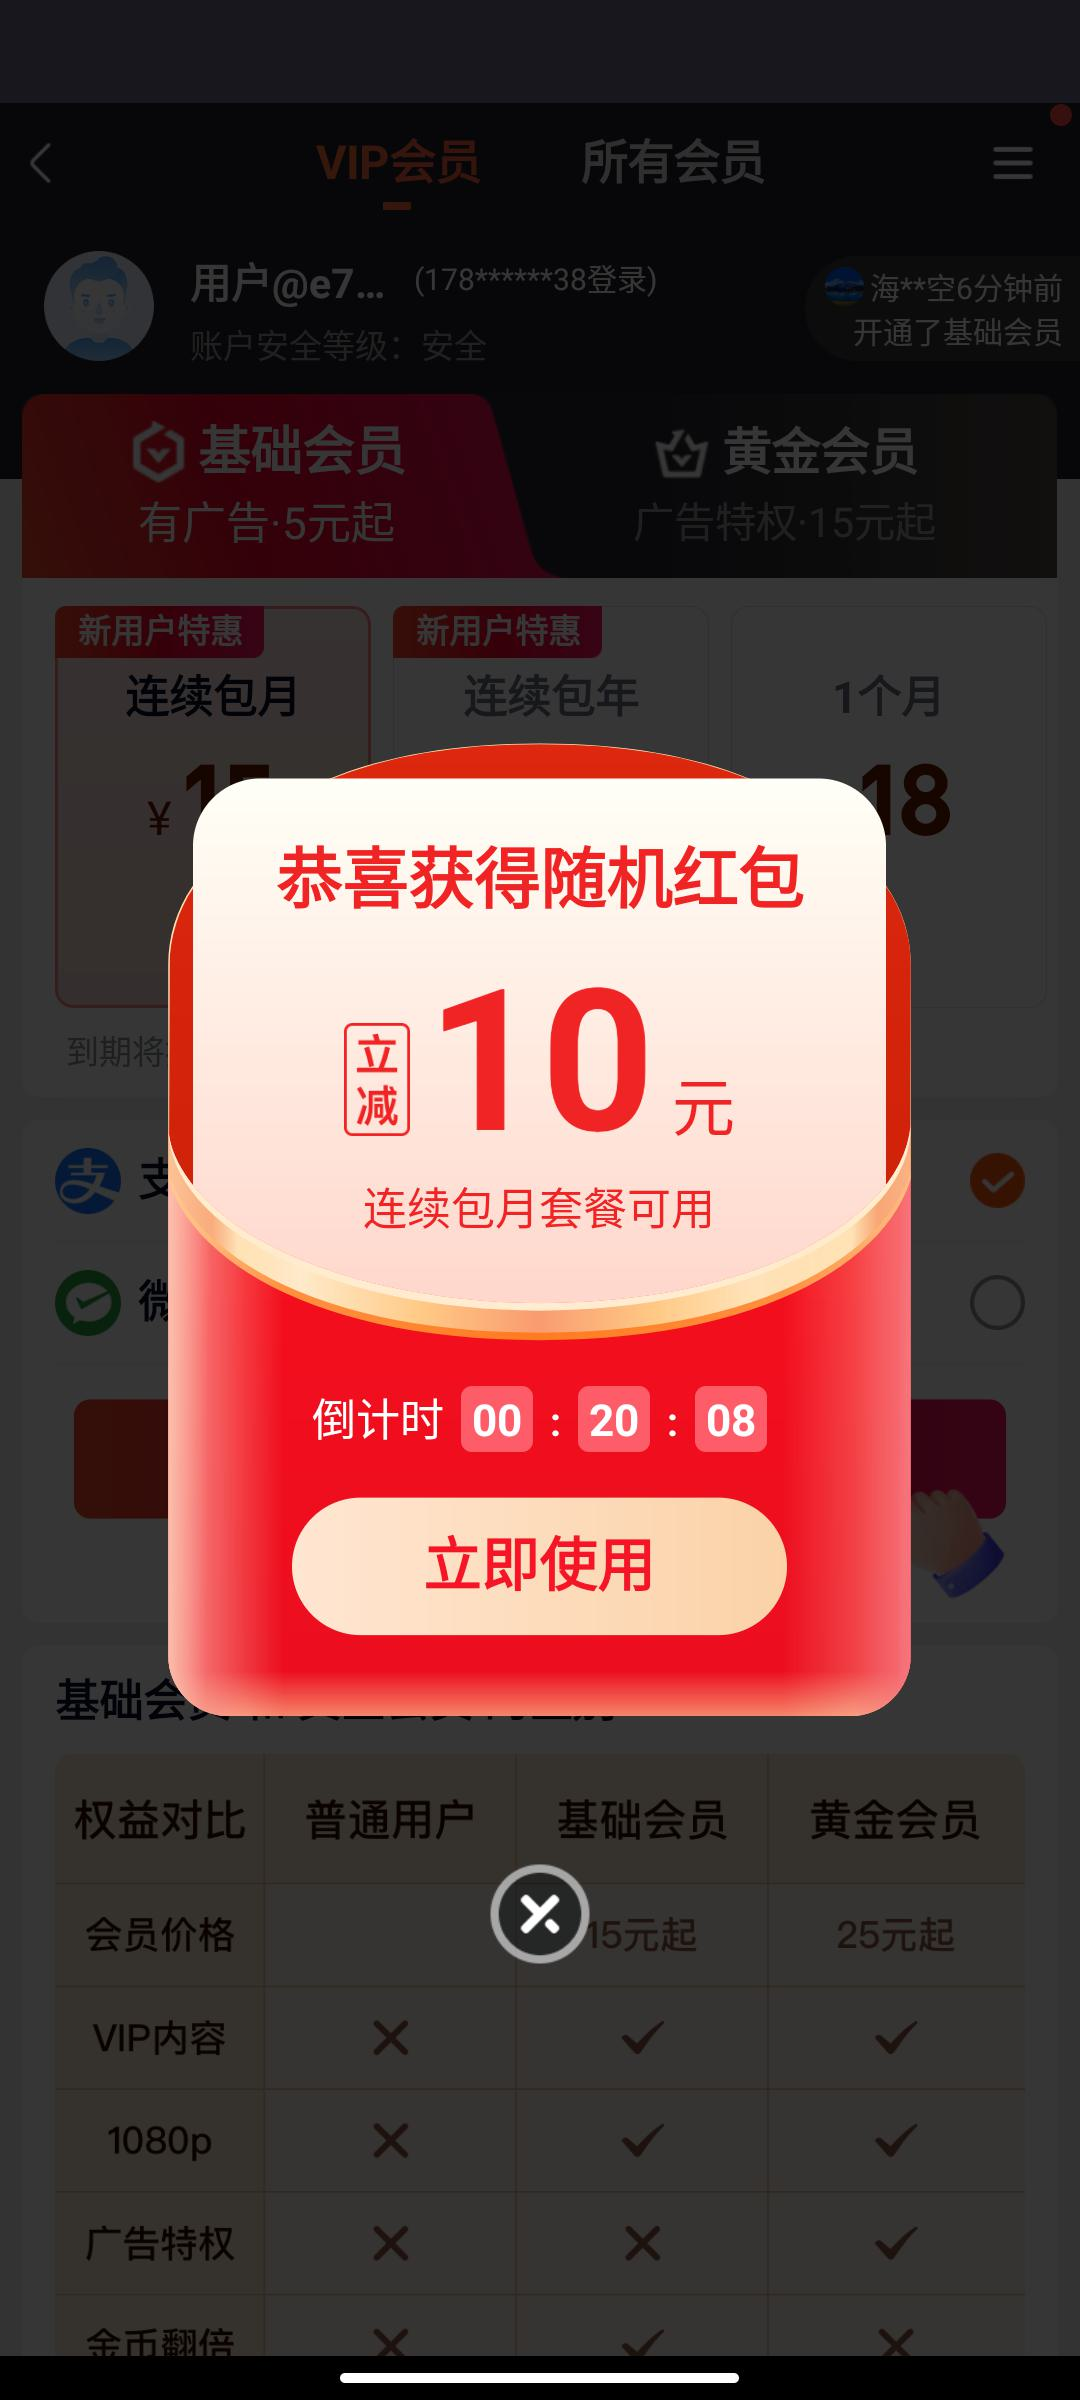ui_group: (191, 771, 898, 1719)
